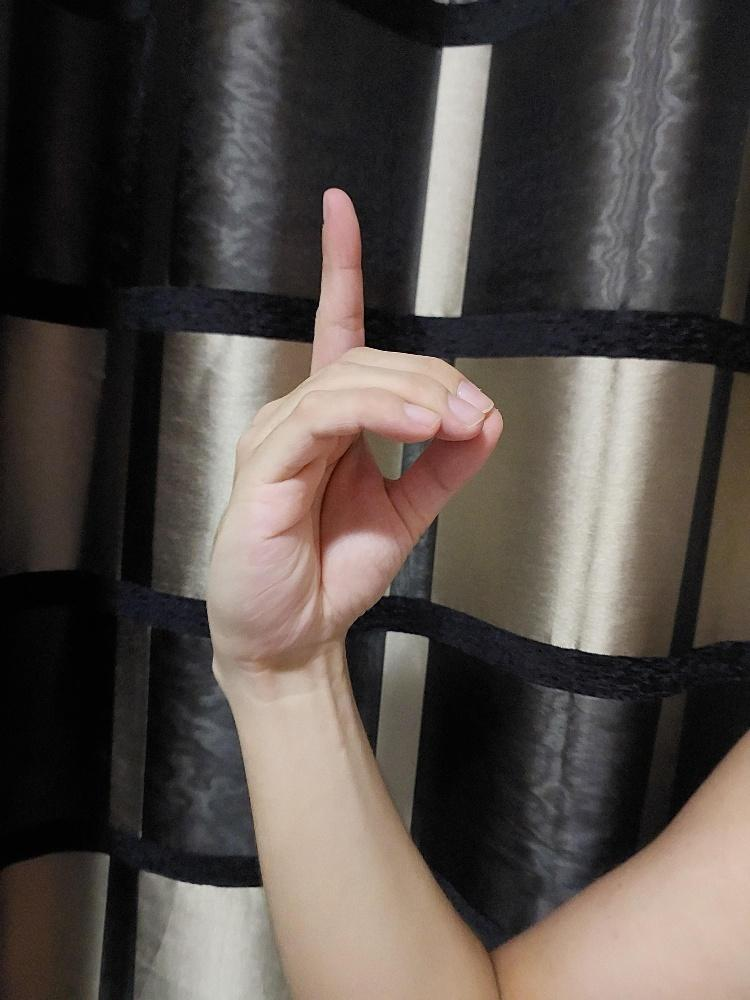d: (203, 182, 505, 670)
